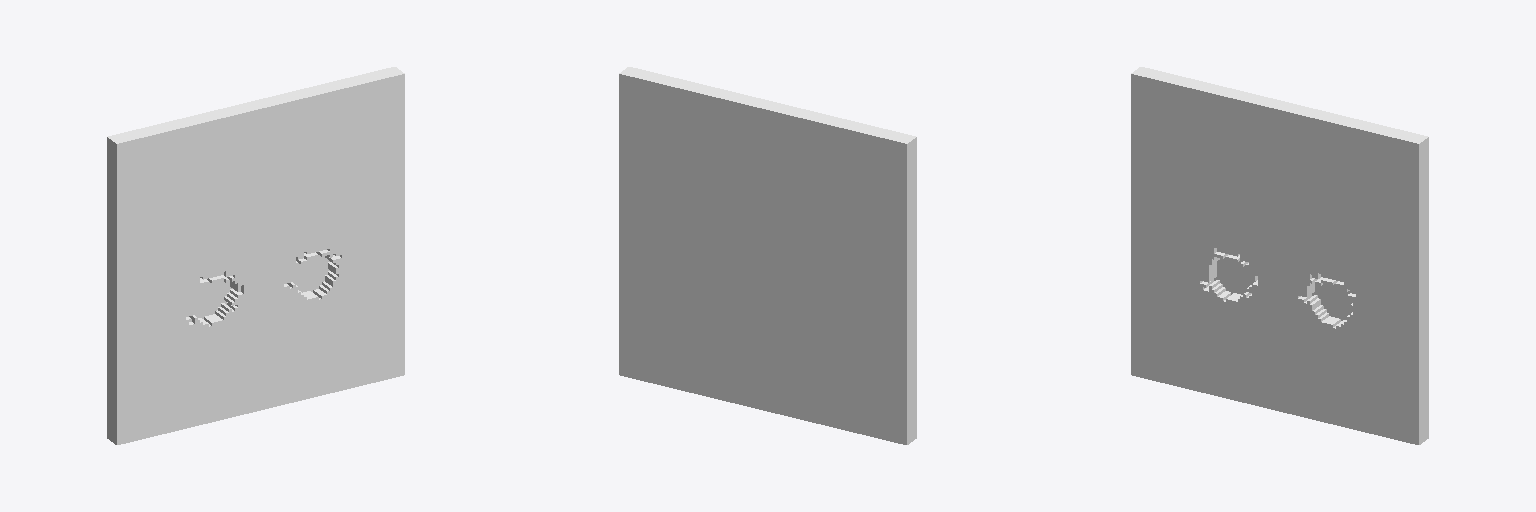
Rendered from skull_wall.obj.
The picture shows the model from 3 angles: view 1: azimuth 30°, elevation 25°; view 2: azimuth 150°, elevation 25°; view 3: azimuth 330°, elevation 25°; orthographic projection.
Bounding box in the file's own units: 100 × 100 × 6.